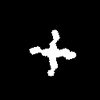single_crochet: (30, 30, 75, 75)
